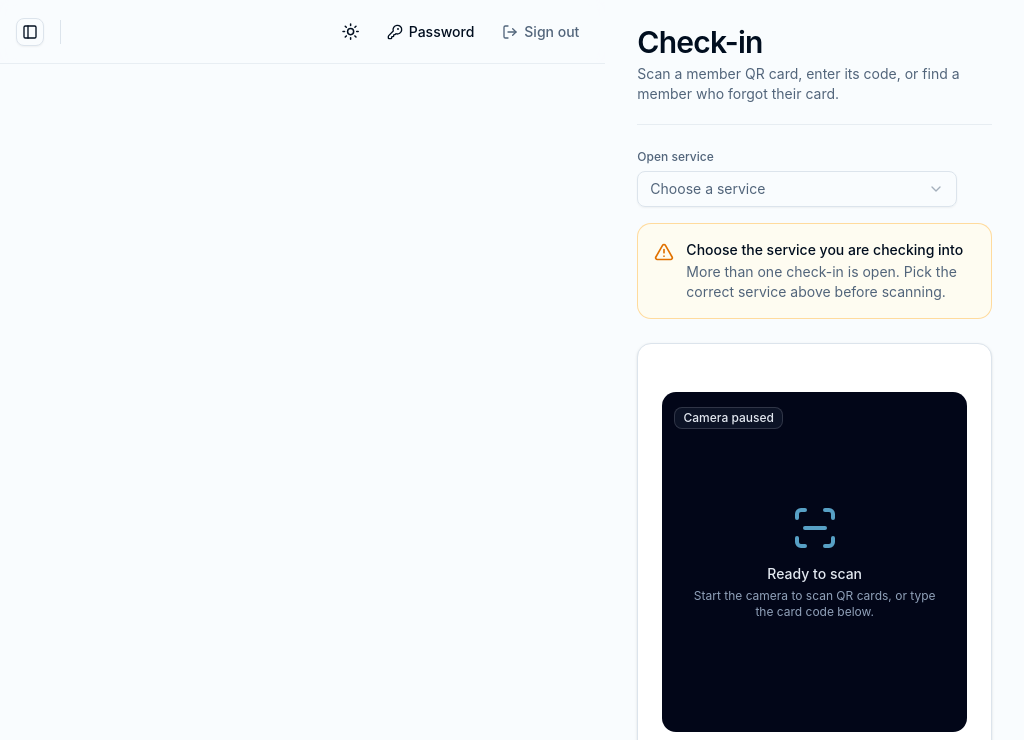
Test: CMAMS browser workflows › asks which service to scan into when more than one check-in is open
The image size is (1024, 740).
Check: the text "Choose the service you are checking into" is shown, box x1=686 y1=240 x2=975 y2=260
Click the dropdown named "Open service" at [708, 188], box x1=637 y1=171 x2=957 y2=207
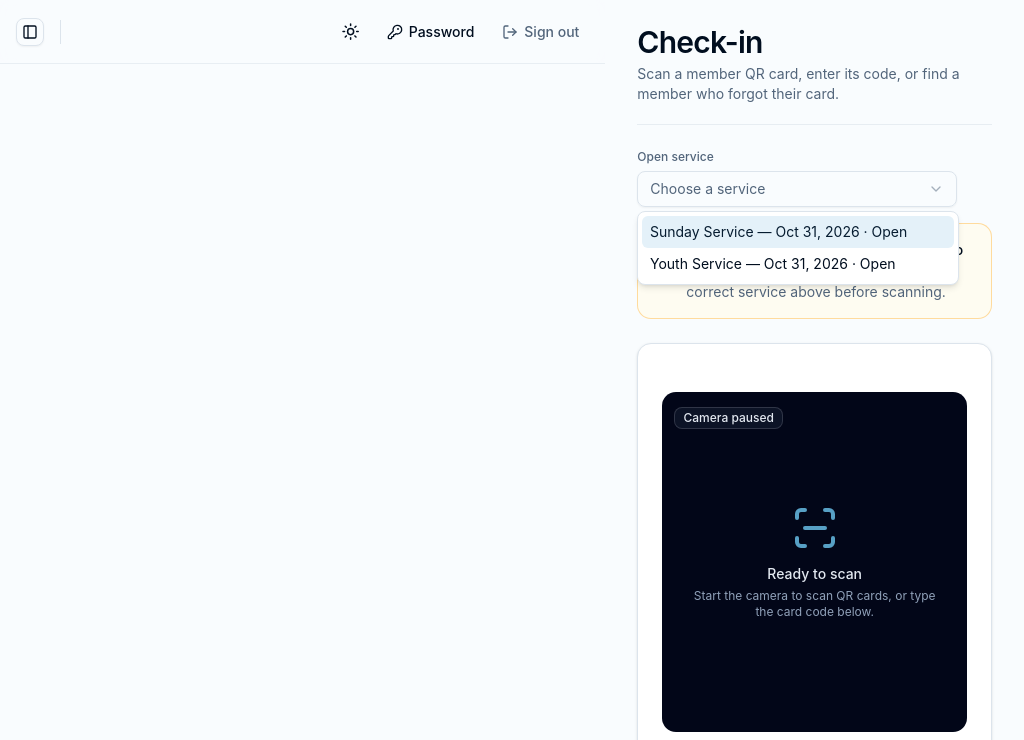
Click the option "Sunday Service — Oct 31, 2026 · Open" at [798, 232], box x1=642 y1=216 x2=954 y2=248
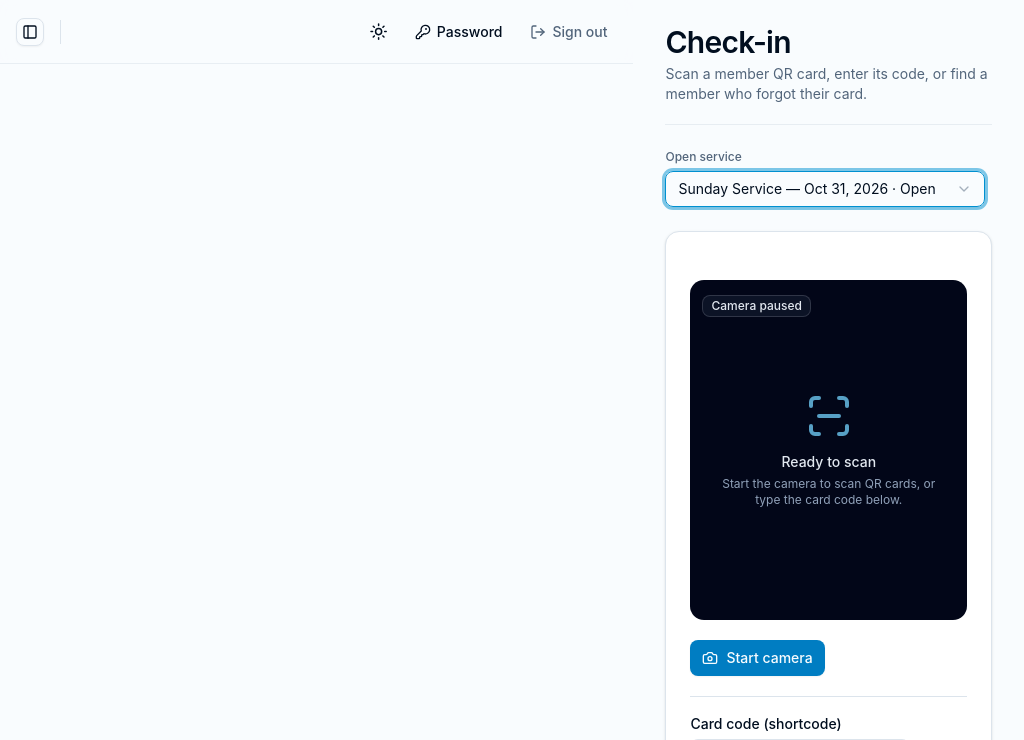
Check: the button "Start camera" is enabled, box x1=690 y1=640 x2=825 y2=676
